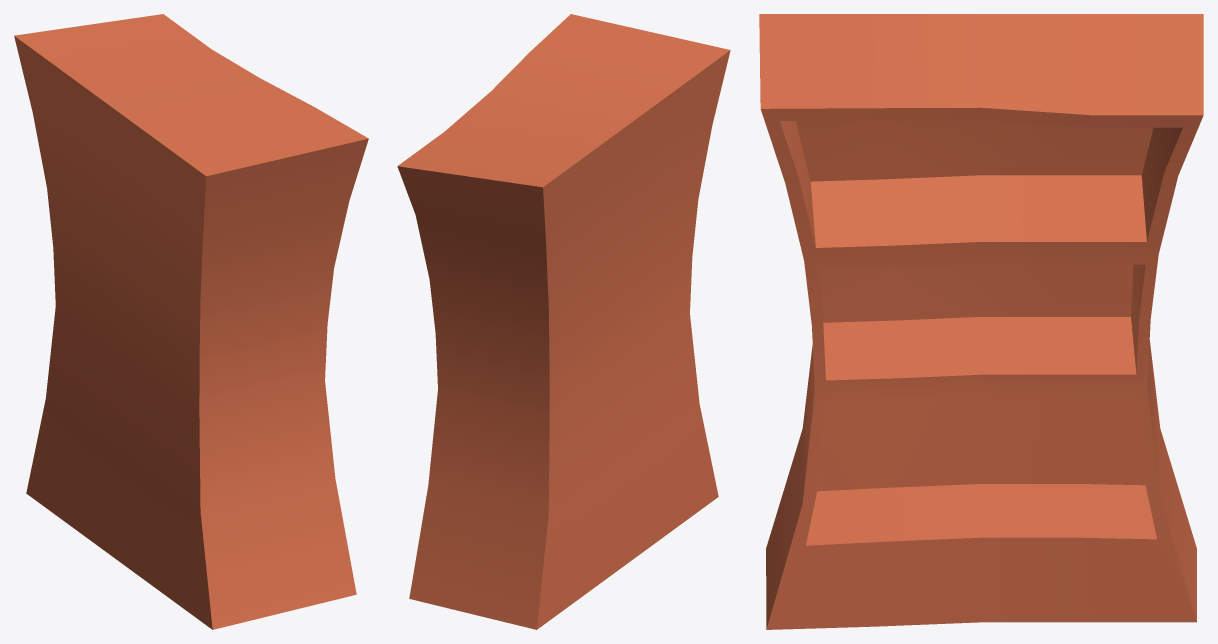
The model's file is Shelf.fbx.
3 renders of one model, left to right at view 1: azimuth 30°, elevation 25°; view 2: azimuth 150°, elevation 25°; view 3: azimuth 270°, elevation 25°, orthographic. The views are drawn at different scales.
Visible parts, largest first — view 1: Cube; view 2: Cube; view 3: Cube.
Boxes of the visible parts, x1,y1,x2,y2 form: Cube: (14, 14, 368, 629); Cube: (397, 14, 730, 629); Cube: (759, 14, 1203, 629).
Size of the model in its own units: 206 by 101 by 270.
